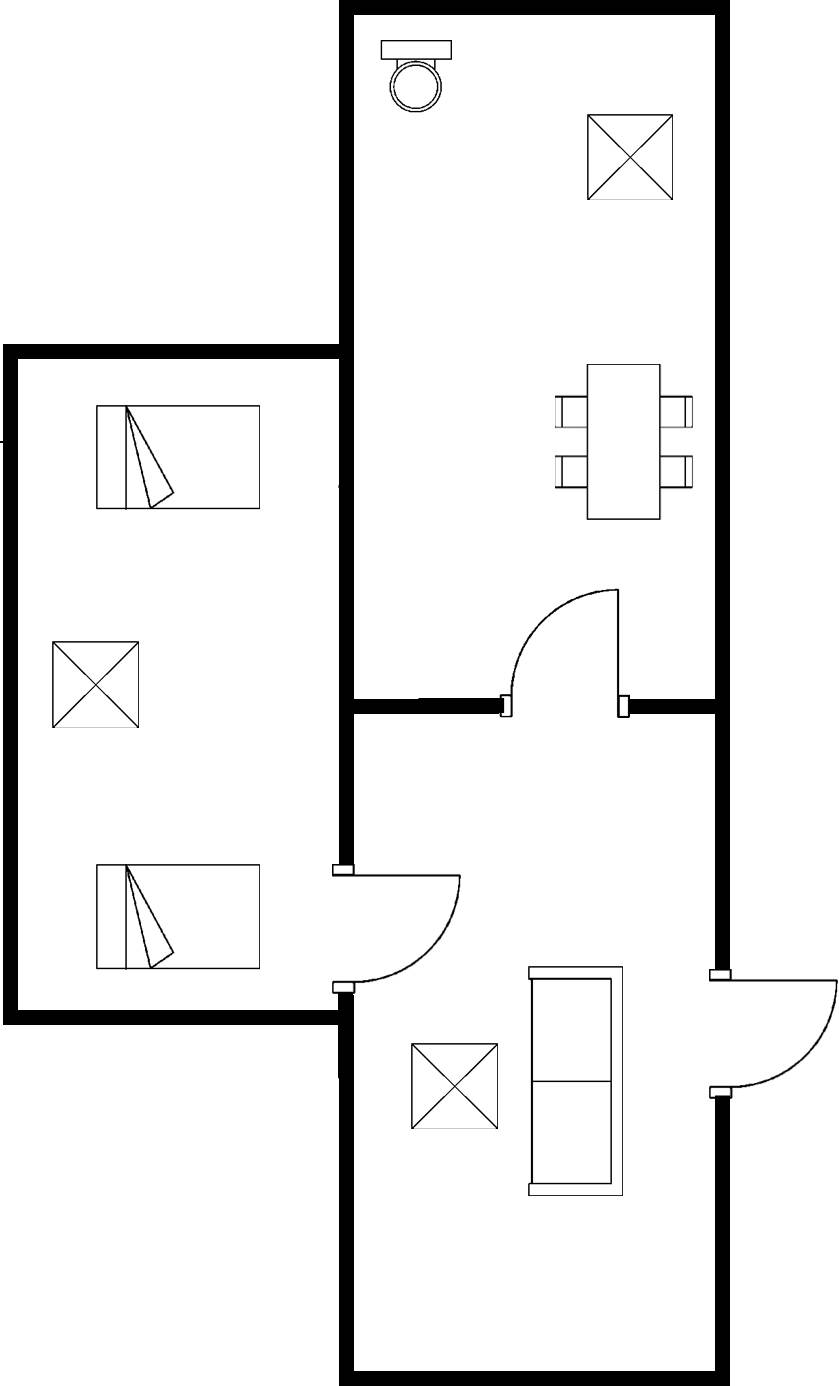bed: (88, 857, 268, 977), (88, 396, 265, 518)
coffee_table: (399, 1034, 509, 1137), (45, 631, 146, 740), (580, 104, 680, 213)
dining_table: (548, 350, 698, 527)
large_sink: (378, 34, 460, 118)
large_sofa: (521, 957, 634, 1210)
